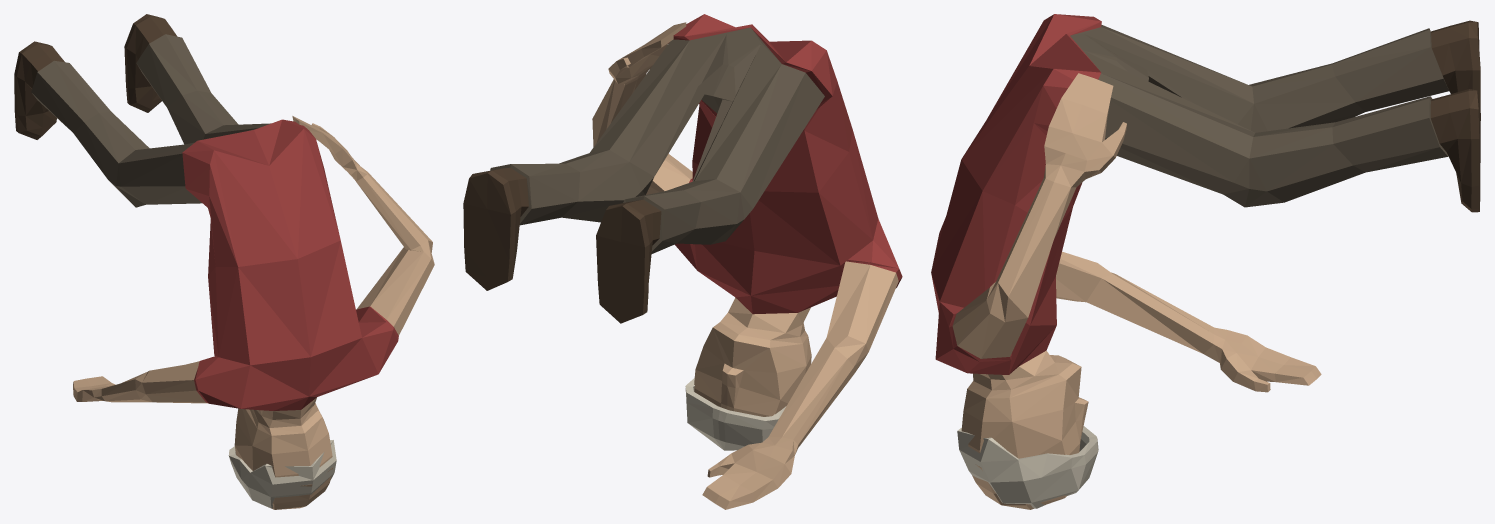
File: man-picking-up.obj
3 views of the same model, side by side, from view 1: azimuth 30°, elevation 25°; view 2: azimuth 150°, elevation 25°; view 3: azimuth 270°, elevation 25° (orthographic). The views are drawn at different scales.
Parts seen in each view (by area): view 1: man-picking-up; view 2: man-picking-up; view 3: man-picking-up.
Part boxes in pixels (bbox=[...]): man-picking-up: bbox=[14, 14, 434, 509]; man-picking-up: bbox=[463, 14, 902, 509]; man-picking-up: bbox=[931, 14, 1480, 509].
Size of the model in its own units: 29.36 by 39.82 by 42.95.
